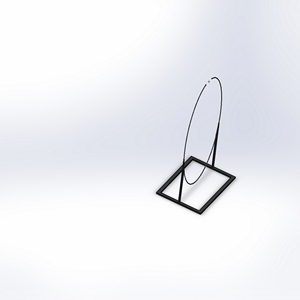circle: (154, 75, 237, 216)
